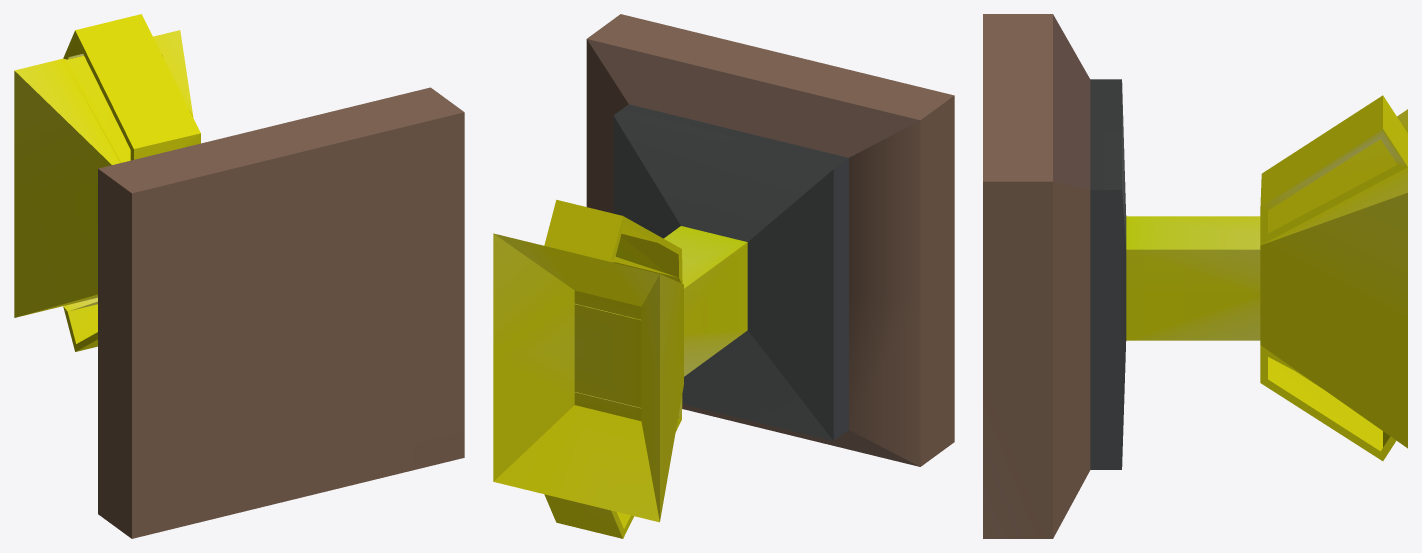
File: Trophy.dae
3 views of the same model, side by side, from view 1: azimuth 30°, elevation 25°; view 2: azimuth 150°, elevation 25°; view 3: azimuth 270°, elevation 25° (orthographic). The views are drawn at different scales.
Visible parts, largest first — view 1: Cube; view 2: Cube; view 3: Cube.
Part boxes in pixels (left/top/right/bottom): Cube: left=14, top=14, right=464, bottom=538; Cube: left=493, top=14, right=954, bottom=538; Cube: left=983, top=14, right=1407, bottom=538.
Bounding box in the file's own units: 1.34 × 1.44 × 1.33.
